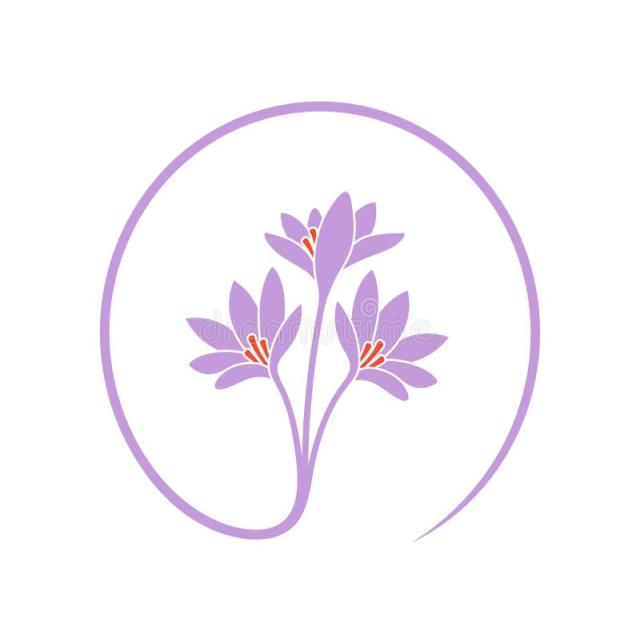Flower: (181, 264, 310, 396), (330, 282, 444, 405), (267, 192, 405, 278)
